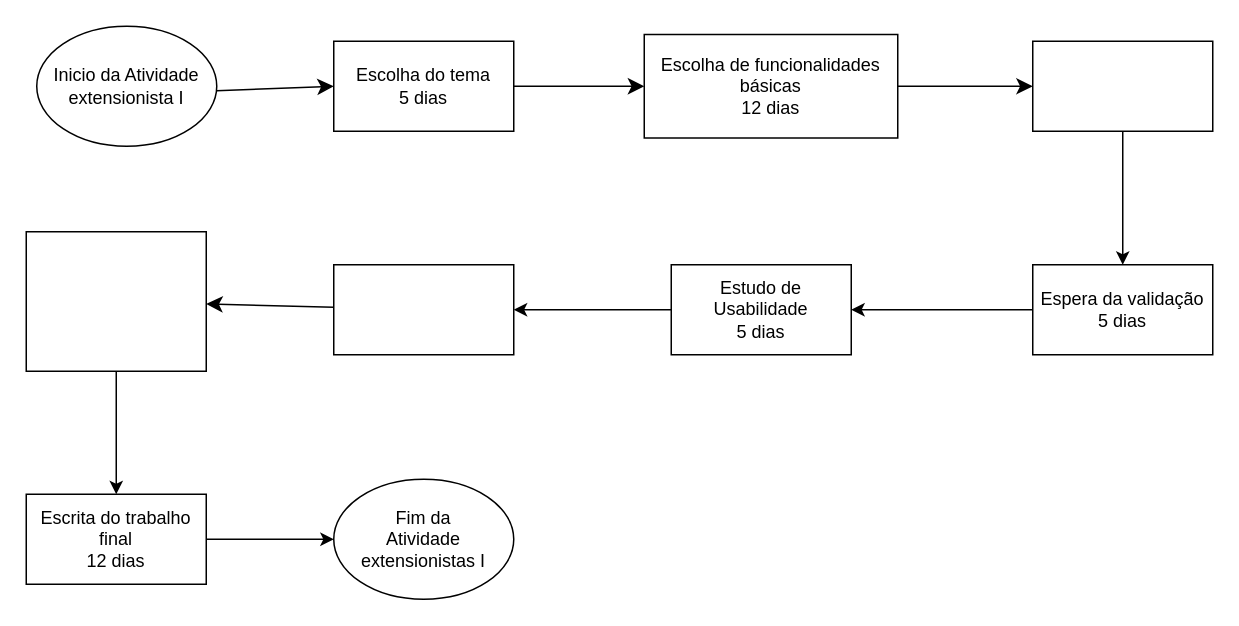
Some shapes in this 1239 by 626 pixel diagram are drawn without their labels. The centre of each missing label's shape, as x and y in pixels:
"Análise de todos os resultados e planejamentos 20 dias" belongs at (x=115, y=300).
"Escrita da validação 12 dias" belongs at (x=1122, y=85).
"Estudo dos resultados obtidos 3 dias" belongs at (x=423, y=309).
